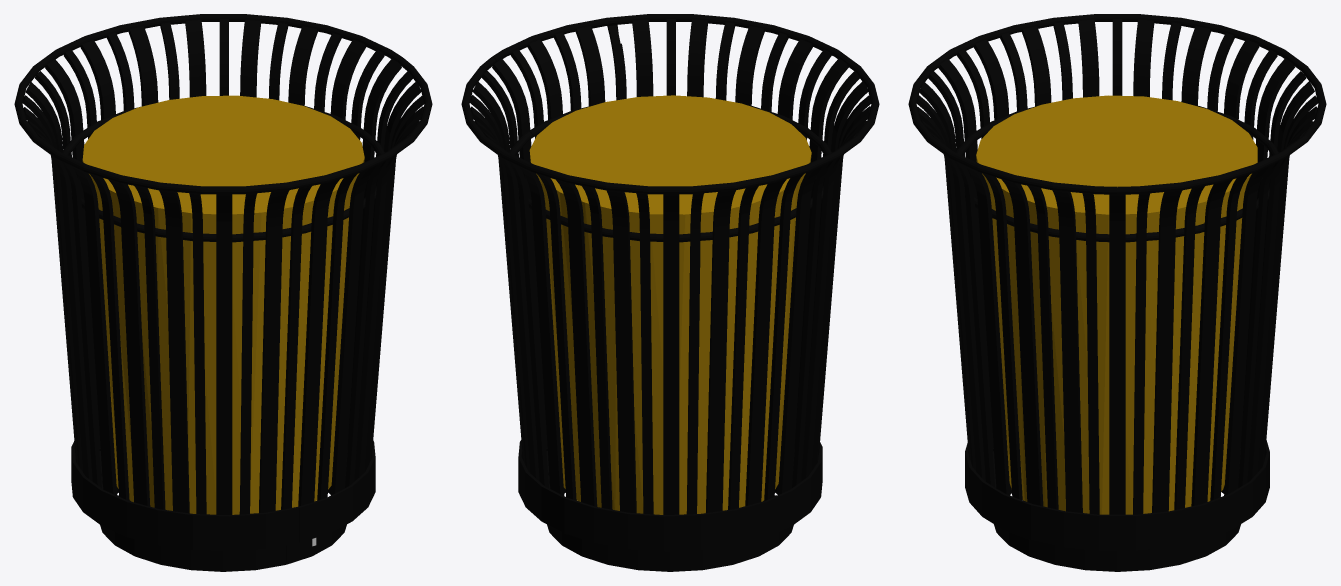
3 renders of one model, left to right at view 1: azimuth 30°, elevation 25°; view 2: azimuth 150°, elevation 25°; view 3: azimuth 270°, elevation 25°, orthographic.
Parts seen in each view (by area): view 1: mesh9.002_mesh9-geometry, mesh6.002_mesh6-geometry, mesh14.002_mesh14-geometry, mesh3.037_mesh3-geometry, mesh3.033_mesh3-geometry, mesh3.038_mesh3-geometry, mesh3.036_mesh3-geometry, mesh3.034_mesh3-geometry, mesh3.035_mesh3-geometry, mesh3.028_mesh3-geometry, mesh5.002_mesh5-geometry, mesh1.030_mesh1-geometry (+33 smaller); view 2: mesh9.002_mesh9-geometry, mesh6.002_mesh6-geometry, mesh14.002_mesh14-geometry, mesh3.039_mesh3-geometry, mesh3.041_mesh3-geometry, mesh3.040_mesh3-geometry, mesh3.042_mesh3-geometry, mesh3.032_mesh3-geometry, mesh3.027_mesh3-geometry, mesh3.031_mesh3-geometry, mesh5.002_mesh5-geometry, mesh1.039_mesh1-geometry (+33 smaller); view 3: mesh9.002_mesh9-geometry, mesh6.002_mesh6-geometry, mesh14.002_mesh14-geometry, mesh3.025_mesh3-geometry, mesh3.022_mesh3-geometry, mesh3.026_mesh3-geometry, mesh3.029_mesh3-geometry, mesh3.024_mesh3-geometry, mesh3.023_mesh3-geometry, mesh3.030_mesh3-geometry, mesh5.002_mesh5-geometry, mesh1.023_mesh1-geometry (+33 smaller).
Boxes of the visible parts, bbox=[...] form: mesh9.002_mesh9-geometry: bbox=[82, 95, 364, 514]; mesh6.002_mesh6-geometry: bbox=[71, 441, 375, 551]; mesh14.002_mesh14-geometry: bbox=[14, 14, 432, 194]; mesh3.037_mesh3-geometry: bbox=[159, 190, 189, 513]; mesh3.033_mesh3-geometry: bbox=[259, 190, 289, 512]; mesh3.038_mesh3-geometry: bbox=[216, 194, 232, 514]; mesh3.036_mesh3-geometry: bbox=[108, 179, 150, 506]; mesh3.034_mesh3-geometry: bbox=[298, 179, 339, 506]; mesh3.035_mesh3-geometry: bbox=[331, 165, 377, 495]; mesh3.028_mesh3-geometry: bbox=[71, 166, 117, 495]; mesh5.002_mesh5-geometry: bbox=[100, 474, 346, 571]; mesh1.030_mesh1-geometry: bbox=[134, 185, 165, 509]; mesh9.002_mesh9-geometry: bbox=[529, 95, 811, 514]; mesh6.002_mesh6-geometry: bbox=[518, 440, 822, 551]; mesh14.002_mesh14-geometry: bbox=[461, 14, 879, 194]; mesh3.039_mesh3-geometry: bbox=[607, 190, 636, 513]; mesh3.041_mesh3-geometry: bbox=[706, 190, 735, 512]; mesh3.040_mesh3-geometry: bbox=[663, 194, 679, 514]; mesh3.042_mesh3-geometry: bbox=[745, 179, 786, 505]; mesh3.032_mesh3-geometry: bbox=[556, 180, 597, 506]; mesh3.027_mesh3-geometry: bbox=[778, 165, 823, 494]; mesh3.031_mesh3-geometry: bbox=[519, 166, 564, 495]; mesh5.002_mesh5-geometry: bbox=[547, 474, 793, 571]; mesh1.039_mesh1-geometry: bbox=[728, 186, 758, 509]; mesh9.002_mesh9-geometry: bbox=[976, 95, 1257, 514]; mesh6.002_mesh6-geometry: bbox=[965, 440, 1269, 550]; mesh14.002_mesh14-geometry: bbox=[908, 14, 1326, 194]; mesh3.025_mesh3-geometry: bbox=[1052, 190, 1082, 512]; mesh3.022_mesh3-geometry: bbox=[1152, 190, 1182, 512]; mesh3.026_mesh3-geometry: bbox=[1109, 188, 1125, 514]; mesh3.029_mesh3-geometry: bbox=[1191, 179, 1232, 506]; mesh3.024_mesh3-geometry: bbox=[1001, 179, 1043, 506]; mesh3.023_mesh3-geometry: bbox=[964, 165, 1010, 495]; mesh3.030_mesh3-geometry: bbox=[1224, 166, 1269, 495]; mesh5.002_mesh5-geometry: bbox=[994, 485, 1240, 571]; mesh1.023_mesh1-geometry: bbox=[1027, 185, 1058, 509].
Size of the model in its own units: 0.5562 by 0.6161 by 0.5577.
